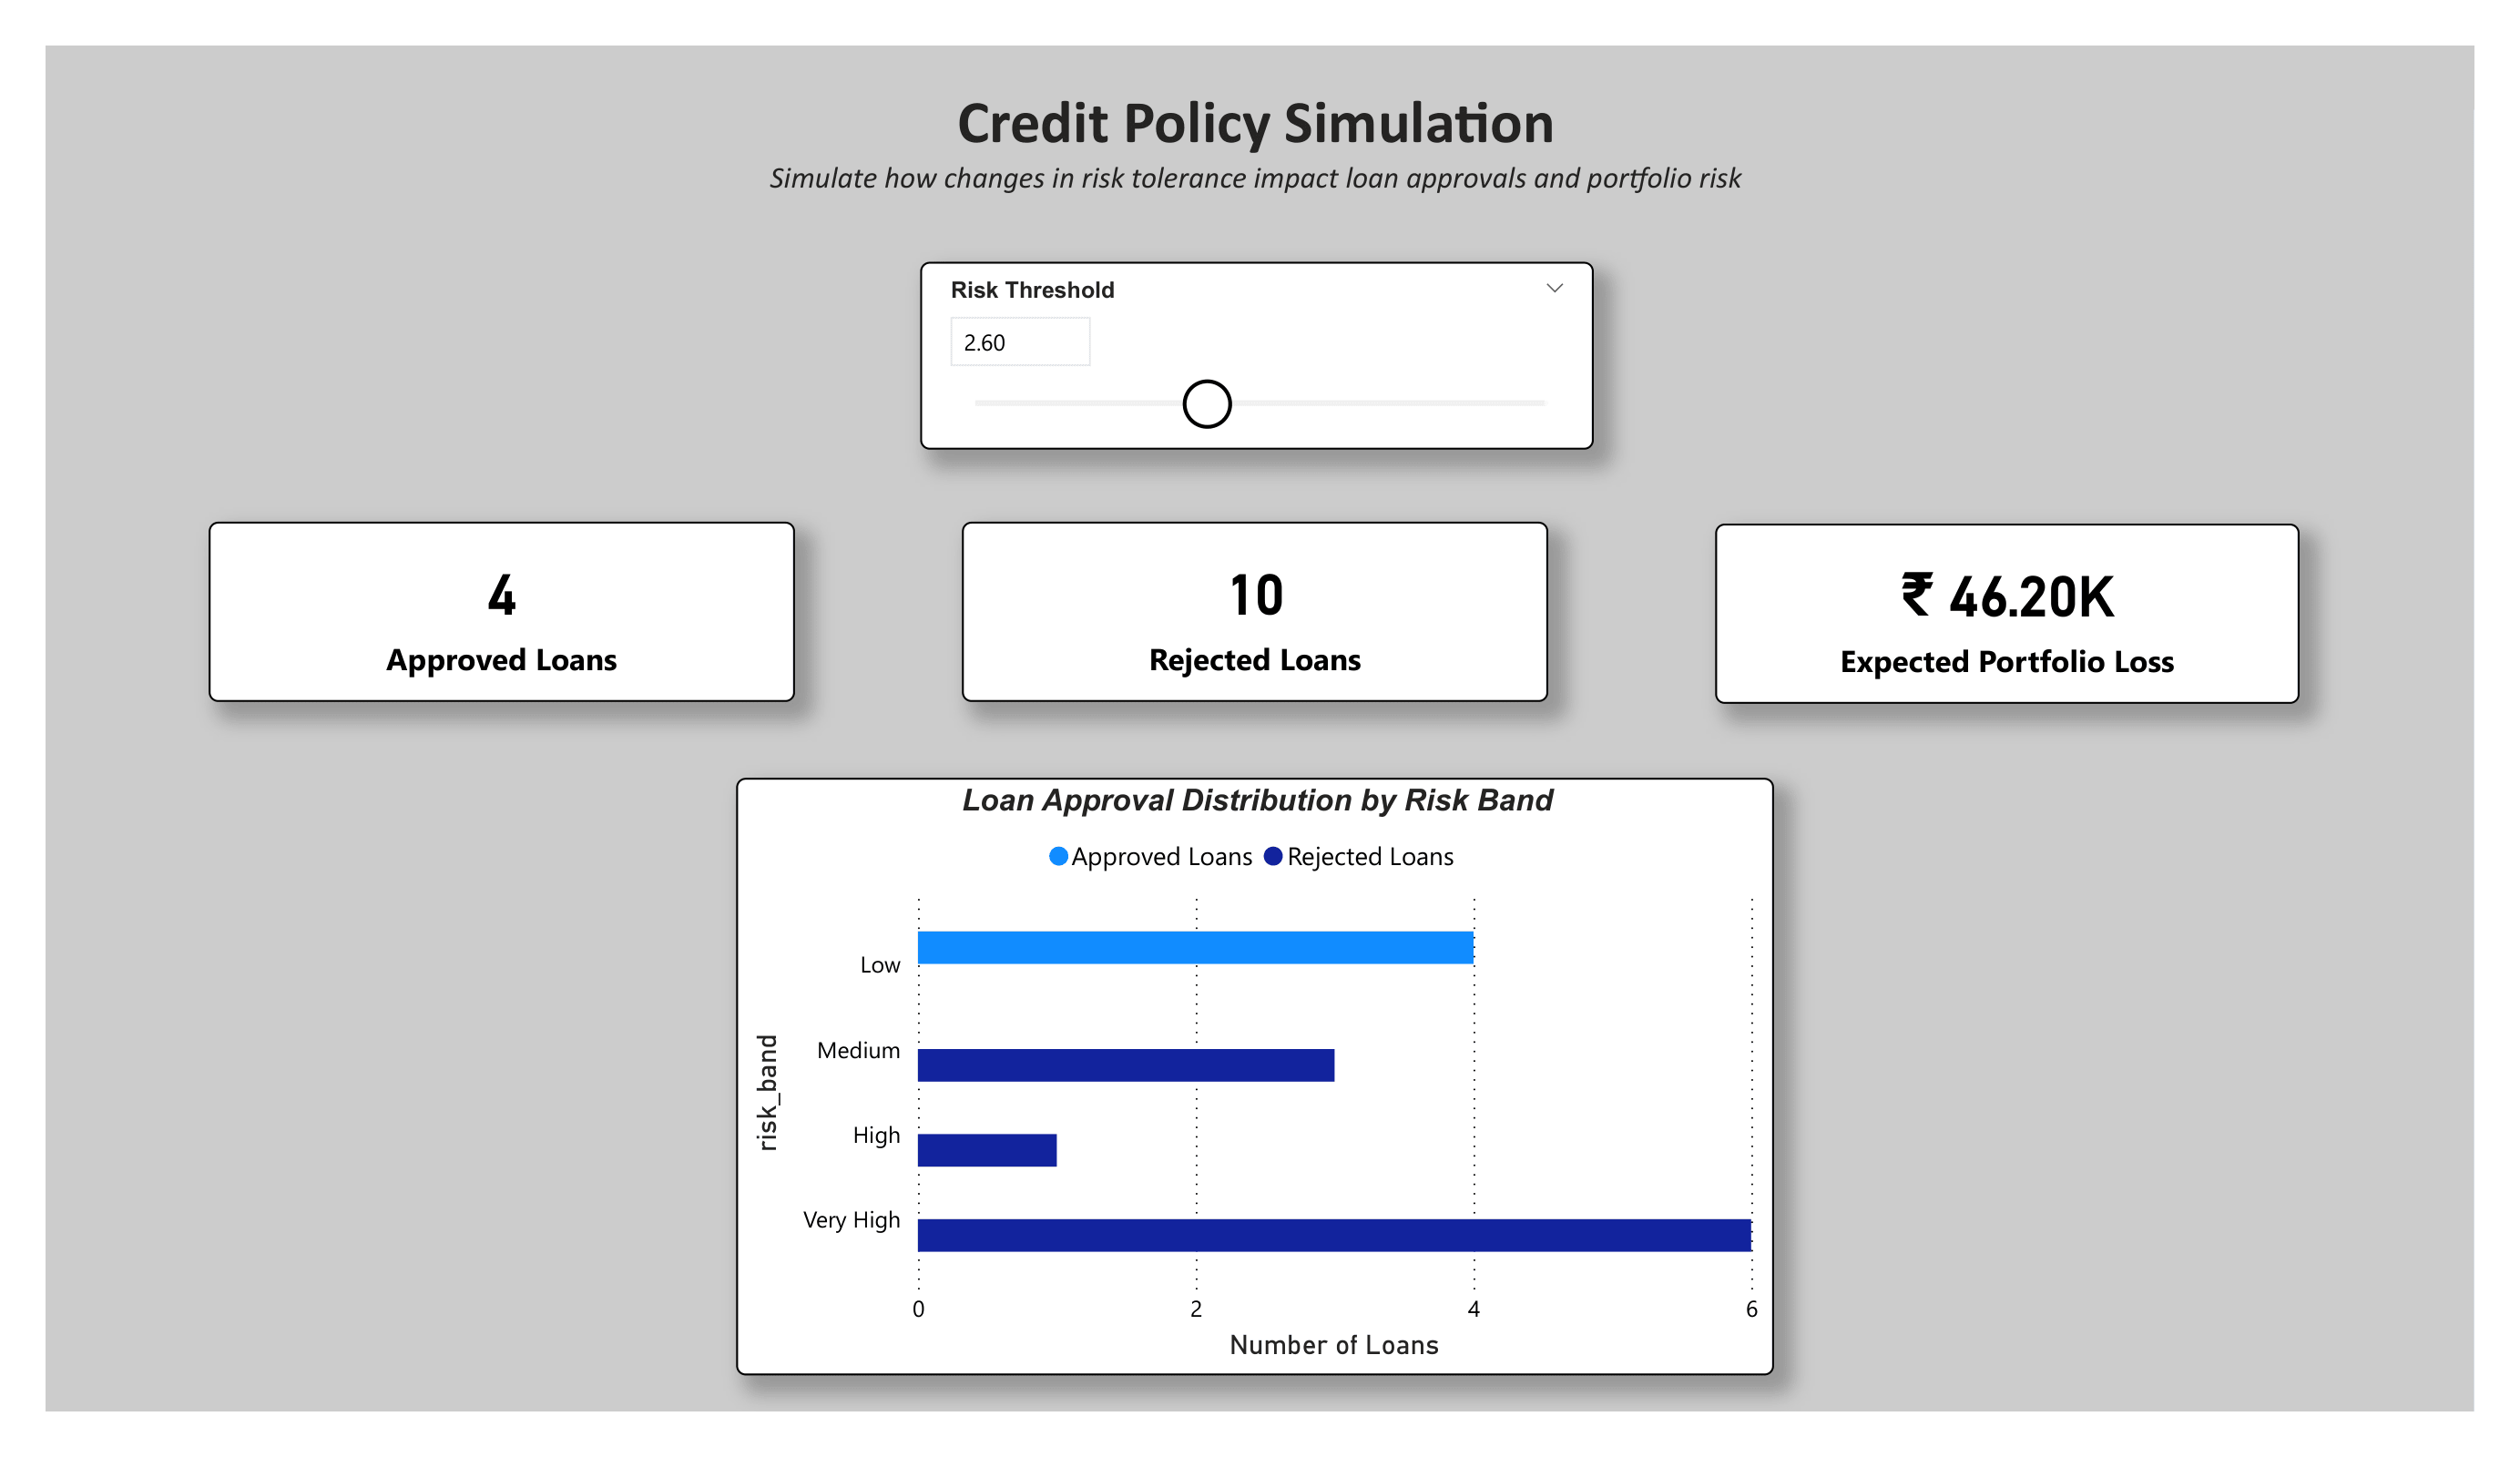

Layout of this report page (visuals, bound fields, positions):
{"tool":"powerbi","page":{"name":"Simulation","canvas":[1280,720],"ordinal":4},"visuals":[{"type":"slicer","fields":{"Values":["Risk Threshold 2.Risk Threshold"]},"box":[461.1,113.9,355.4,98.8],"z":0},{"type":"clusteredBarChart","title":"Loan Approval Distribution by Risk Band","fields":{"Category":["RiskBandTable.risk_band"],"Y":["risk_data_mart bnpl_risk_featured.Approved Loans","risk_data_mart bnpl_risk_featured.Rejected Loans"]},"box":[363.6,385.6,547.5,315.6],"z":1000},{"type":"card","fields":{"Values":["risk_data_mart bnpl_risk_featured.Approved Loans"]},"box":[86.4,251.1,308.7,94.7],"z":1001},{"type":"card","fields":{"Values":["risk_data_mart bnpl_risk_featured.Rejected Loans"]},"box":[483,251.1,308.7,94.7],"z":1002},{"type":"card","fields":{"Values":["risk_data_mart bnpl_risk_featured.Expected Portfolio Loss"]},"box":[879.6,252.5,308.7,94.7],"z":1003},{"type":"textbox","box":[30,16.4,1216.1,84.6],"z":1004}]}

Visuals, with their boxes on the page's 1280x720 design canvas (x1, y1, x2, y2). These are canvas units, not pixel positions in the 2520x1457 screenshot, which may show the page scaled, cropped or inside an application window:
slicer - Risk Threshold 2.Risk Threshold: [x1=461, y1=114, x2=816, y2=213]
"Loan Approval Distribution by Risk Band" clusteredBarChart: [x1=364, y1=386, x2=911, y2=701]
card - risk_data_mart bnpl_risk_featured.Approved Loans: [x1=86, y1=251, x2=395, y2=346]
card - risk_data_mart bnpl_risk_featured.Rejected Loans: [x1=483, y1=251, x2=792, y2=346]
card - risk_data_mart bnpl_risk_featured.Expected Portfolio Loss: [x1=880, y1=252, x2=1188, y2=347]
textbox: [x1=30, y1=16, x2=1246, y2=101]
